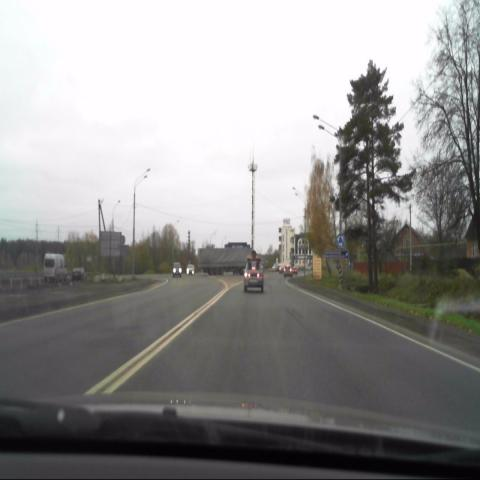4_3: (335, 231, 345, 249)
